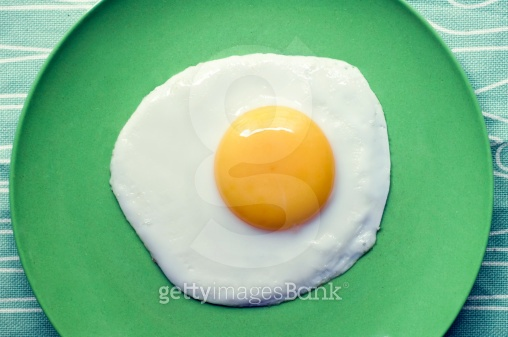fried egg: (128, 66, 393, 299)
